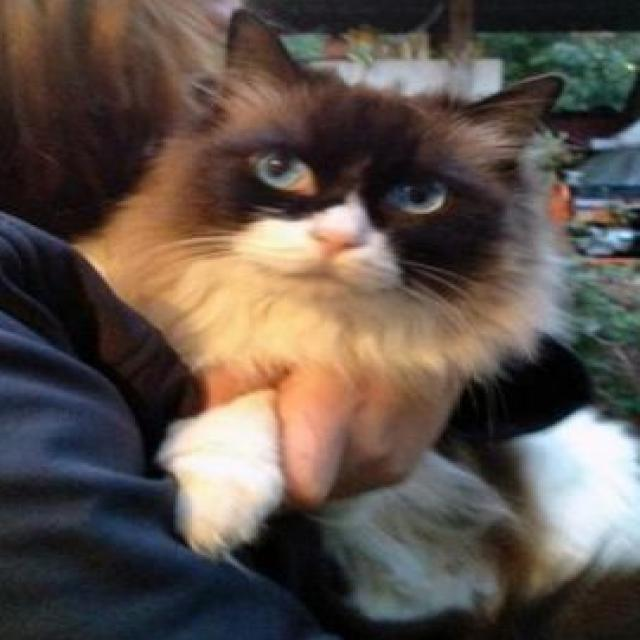Ragdoll: (64, 4, 640, 622)
